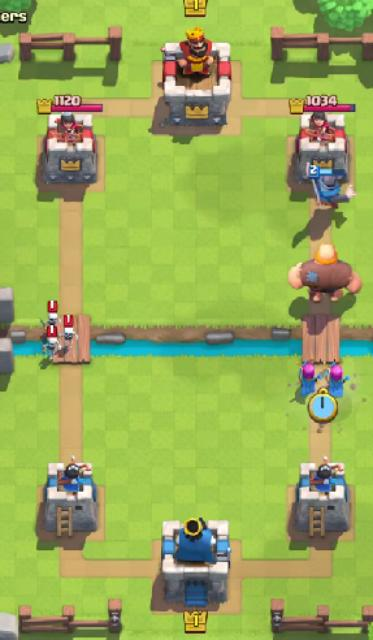ally_melee: (307, 165, 357, 211)
ally_ranged: (323, 359, 350, 397), (296, 362, 323, 396)
ally_tank: (288, 244, 365, 301)
enemy_melee: (40, 337, 61, 360), (63, 326, 78, 349), (40, 313, 62, 328)
